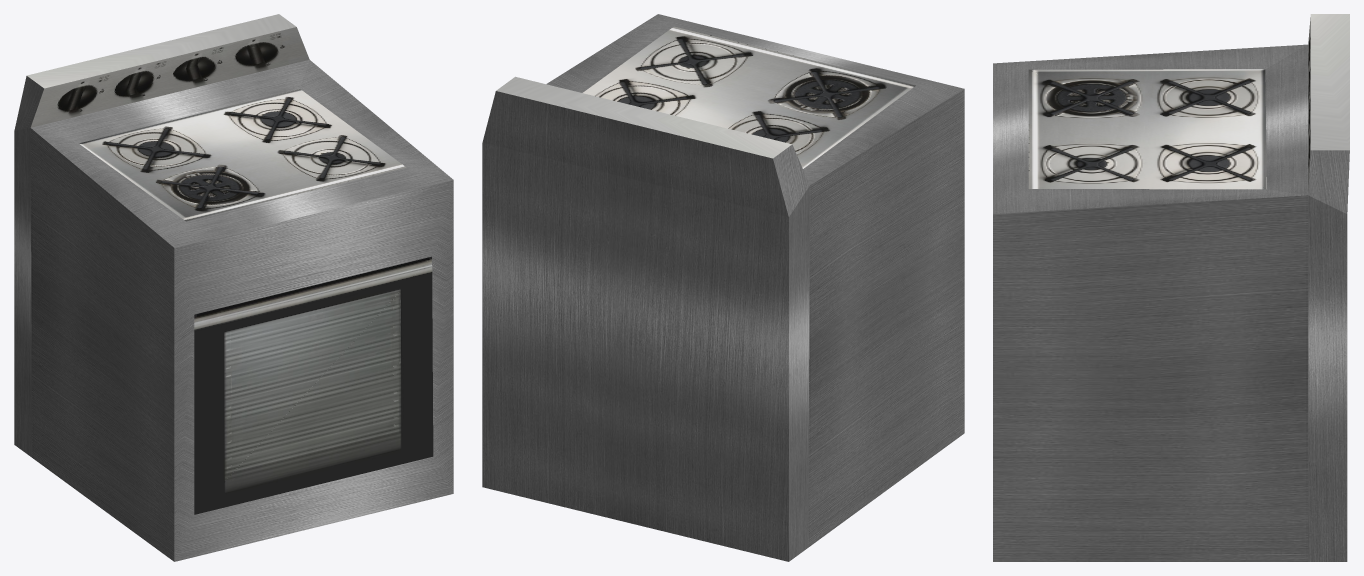
The model's file is estufa (1).fbx.
3 views of the same model, side by side, from view 1: azimuth 30°, elevation 25°; view 2: azimuth 150°, elevation 25°; view 3: azimuth 270°, elevation 25° (orthographic). The views are drawn at different scales.
Visible parts, largest first — view 1: estufa; view 2: estufa; view 3: estufa.
Part boxes in pixels (x1,y1,x2,y2): estufa: [14, 14, 453, 561]; estufa: [482, 14, 964, 561]; estufa: [993, 14, 1349, 561].
Size of the model in its own units: 0.8043 by 1 by 0.8.
Materials: 3 (3 with a texture image).
